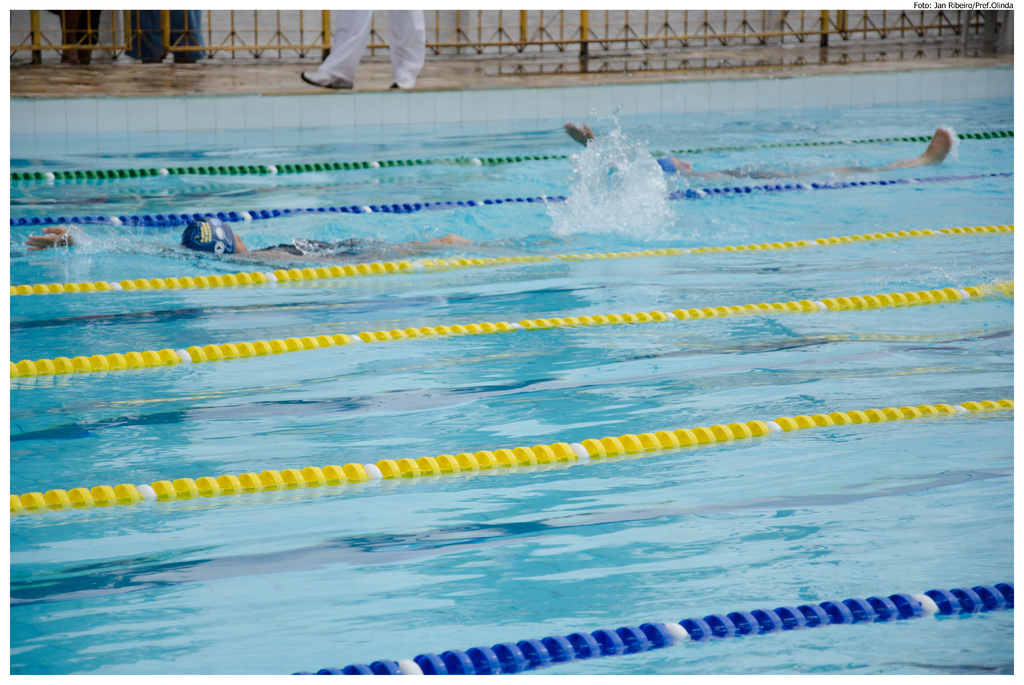Person: (23, 209, 479, 269), (23, 217, 563, 264), (562, 120, 952, 183), (298, 7, 426, 94), (114, 9, 206, 63), (44, 8, 101, 66)
